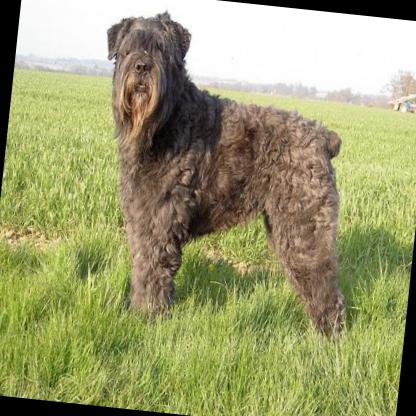Bouvier_des_Flandres: (76, 4, 374, 333)
